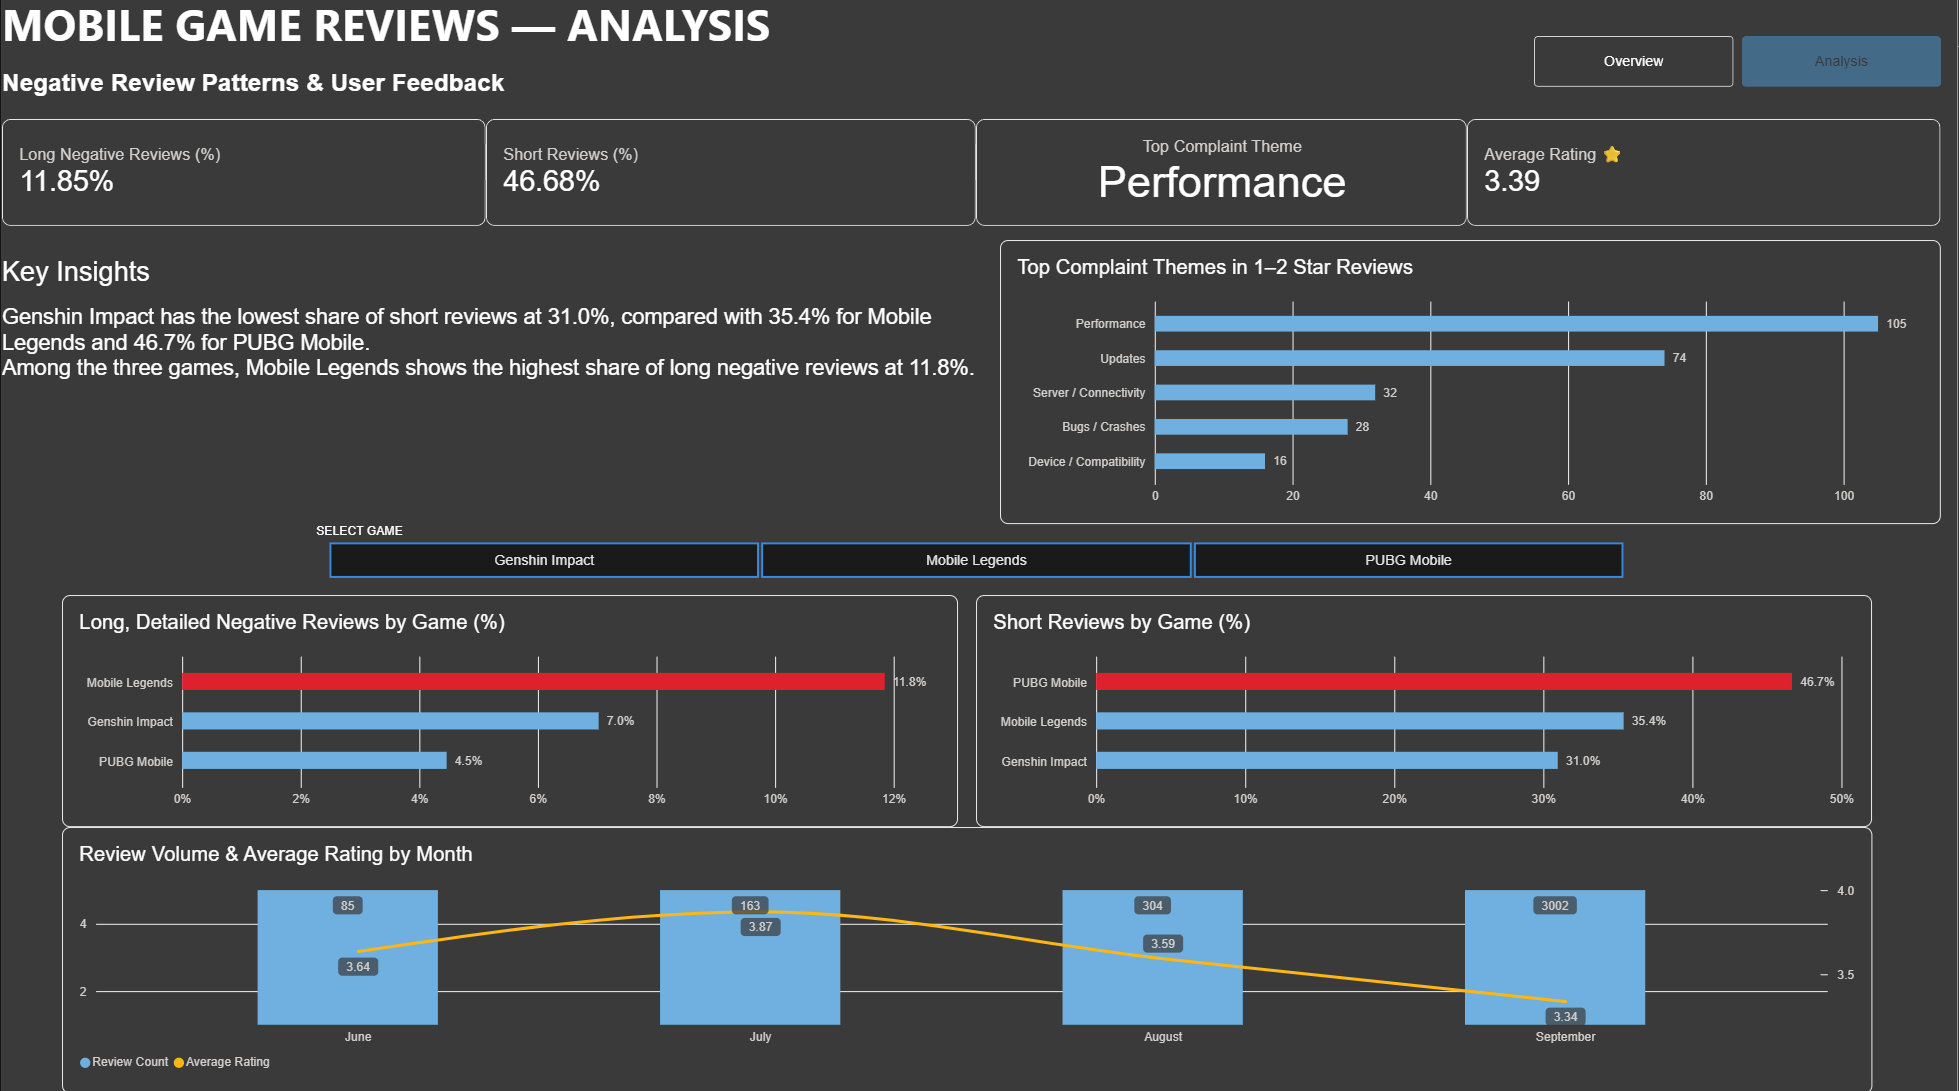

Layout of this report page (visuals, bound fields, positions):
{"tool":"powerbi","page":{"name":"Analysis","canvas":[1920,1080],"ordinal":1},"visuals":[{"type":"barChart","title":"Long, Detailed Negative Reviews by Game (%)","fields":{"Y":["public game_reviews.Pct Long Negative2"],"Category":["public game_reviews.game"]},"box":[58.9,590.2,880,227.8],"z":0},{"type":"barChart","title":"Short Reviews by Game (%)","fields":{"Y":["public game_reviews.Pct Short Review"],"Category":["public game_reviews.game"]},"box":[956.6,590.2,880,227.8],"z":1000},{"type":"cardVisual","fields":{"Data":["public game_reviews.Top Complaint Theme"]},"box":[956.6,122.8,482.2,105.1],"z":2000},{"type":"slicer","title":"Game","fields":{"Values":["public game_reviews.game"]},"box":[300.5,520.5,1311.1,55],"z":3000},{"type":"textbox","box":[0,0,814.2,113.9],"z":4000},{"type":"cardVisual","fields":{"Data":["public game_reviews.Max Long Negative"]},"box":[0,122.8,475.3,105.1],"z":5000},{"type":"cardVisual","fields":{"Data":["public game_reviews.Max Short Review"]},"box":[475.3,122.8,481.2,105.1],"z":6000},{"type":"cardVisual","fields":{"Data":["Avg(public game_reviews.rating)"]},"box":[1438.8,122.8,465.5,105.1],"z":7000},{"type":"textbox","box":[0,258.3,956.6,221],"z":8000},{"type":"lineClusteredColumnComboChart","title":"Review Volume & Average Rating by Month","fields":{"Category":["public game_reviews.date.Variation.Date Hierarchy.Year","public game_reviews.date.Variation.Date Hierarchy.Quarter","public game_reviews.date.Variation.Date Hierarchy.Month","public game_reviews.date.Variation.Date Hierarchy.Day"],"Y2":["Avg(public game_reviews.rating)"],"Y":["CountNonNull(public game_reviews.game)"]},"box":[58.9,818.1,1777.6,262.2],"z":9000},{"type":"barChart","title":"Top Complaint Themes in 1–2 Star Reviews","fields":{"Category":["Complaint Themes.Theme"],"Y":["public game_reviews.Complaint Theme Count"]},"box":[980.1,241.6,924.2,278.9],"z":10000}]}

Visuals, with their boxes in screenshot pixels (x1, y1, x2, y2), scaled from the page's 1920x1080 canvas onto the 1959x1091 screenshot:
"Long, Detailed Negative Reviews by Game (%)" barChart: rect(60, 596, 958, 826)
"Short Reviews by Game (%)" barChart: rect(976, 596, 1874, 826)
cardVisual - public game_reviews.Top Complaint Theme: rect(976, 124, 1468, 230)
"Game" slicer: rect(307, 526, 1644, 581)
textbox: rect(0, 0, 831, 115)
cardVisual - public game_reviews.Max Long Negative: rect(0, 124, 485, 230)
cardVisual - public game_reviews.Max Short Review: rect(485, 124, 976, 230)
cardVisual - Avg(public game_reviews.rating): rect(1468, 124, 1943, 230)
textbox: rect(0, 261, 976, 484)
"Review Volume & Average Rating by Month" lineClusteredColumnComboChart: rect(60, 826, 1874, 1090)
"Top Complaint Themes in 1–2 Star Reviews" barChart: rect(1000, 244, 1943, 526)
